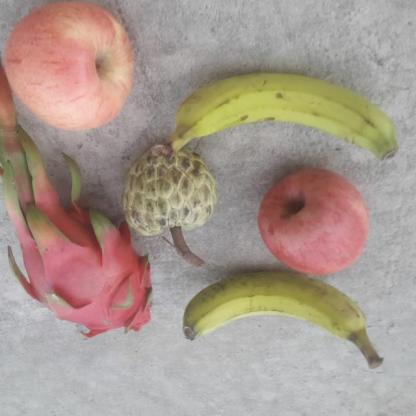annona: (124, 139, 220, 243)
apple: (0, 0, 137, 132), (258, 162, 371, 276)
banana: (164, 73, 401, 164), (179, 270, 384, 368)
pitaya: (10, 203, 158, 337)
